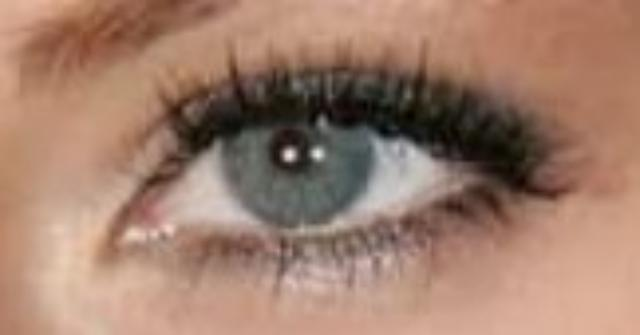eye: (217, 110, 376, 226)
